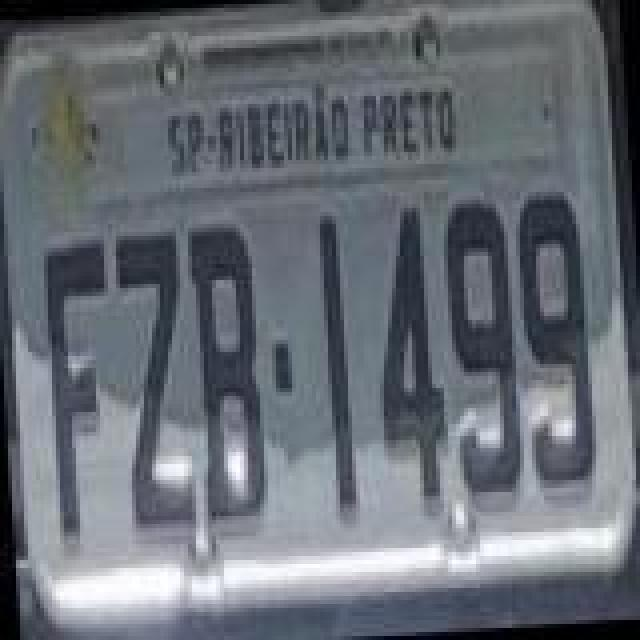1: (310, 210, 362, 526)
4: (364, 198, 452, 506)
9: (512, 190, 600, 498), (440, 192, 528, 496)
B: (184, 220, 272, 532)
F: (36, 230, 124, 538)
Z: (112, 230, 200, 538)
